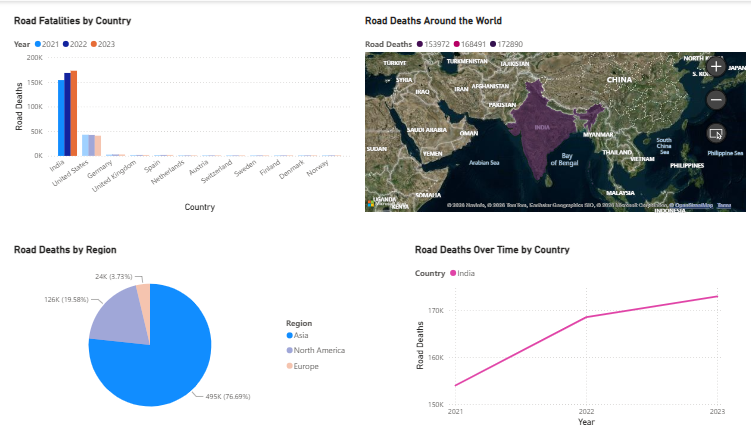

What the dashboard file says about the page in this screenshot:
{"tool":"powerbi","page":{"name":"Road Deaths","canvas":[1280,720],"ordinal":0},"visuals":[{"type":"clusteredColumnChart","title":"Road Fatalities by Country","fields":{"Category":["Road Traffic Deaths.Country"],"Y":["Sum(Road Traffic Deaths.Road Deaths)"],"Series":["Road Traffic Deaths.Year"]},"box":[26.9,21.8,576.2,337.6],"z":0},{"type":"lineChart","title":"Road Deaths Over Time by Country","fields":{"Category":["Road Traffic Deaths.Year"],"Y":["Sum(Road Traffic Deaths.Road Deaths)"],"Series":["Road Traffic Deaths.Country"]},"box":[700.5,406.5,530.8,314.1],"z":1000},{"type":"filledMap","title":"Road Deaths Around the World","fields":{"Category":["Road Traffic Deaths.Country"],"Series":["Road Traffic Deaths.Road Deaths"]},"box":[616.5,21.8,650.1,337.6],"z":2000},{"type":"pieChart","fields":{"Y":["Sum(Road Traffic Deaths.Road Deaths)"],"Category":["Road Traffic Deaths.Region"]},"box":[27,407,576,313],"z":2001}]}

Visuals, with their boxes in screenshot pixels (x1, y1, x2, y2), scaled from the page's 1280x720 canvas onto the 751x427 screenshot:
"Road Fatalities by Country" clusteredColumnChart: Rect(16, 13, 354, 213)
"Road Deaths Over Time by Country" lineChart: Rect(411, 241, 722, 426)
"Road Deaths Around the World" filledMap: Rect(362, 13, 743, 213)
pieChart - Sum(Road Traffic Deaths.Road Deaths) x Road Traffic Deaths.Region: Rect(16, 241, 354, 426)
